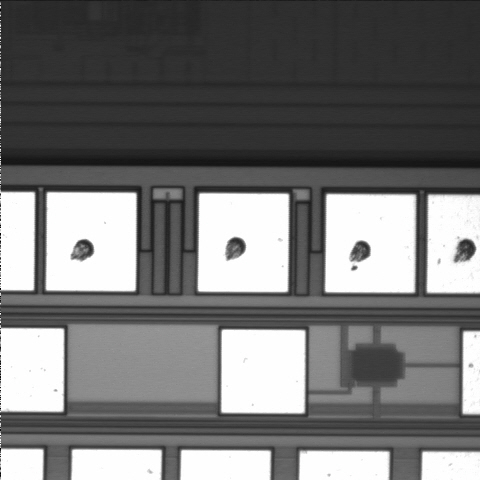pad: (198, 193, 289, 292), (46, 192, 136, 291), (325, 194, 415, 293), (221, 330, 305, 413)
